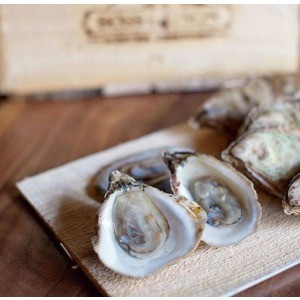oyster_brain food: (107, 199, 164, 266), (238, 122, 278, 172)
